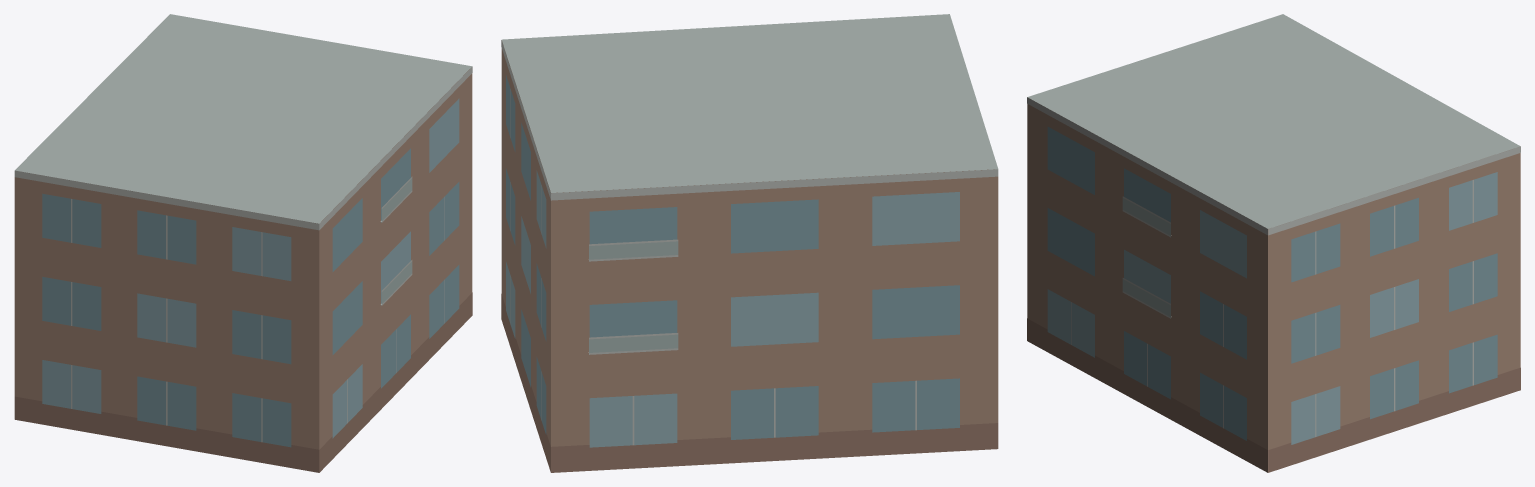
Rendered from survey-upis-32902891.glb.
The picture shows the model from 3 angles, left to right: view 1: azimuth 30°, elevation 25°; view 2: azimuth 150°, elevation 25°; view 3: azimuth 270°, elevation 25°; orthographic projection. The views are drawn at different scales.
Visible parts, largest first — view 1: survey-upis-32902891.tmp; view 2: survey-upis-32902891.tmp; view 3: survey-upis-32902891.tmp.
Boxes of the visible parts, x1,y1,x2,y2 form: survey-upis-32902891.tmp: (14,14,472,472); survey-upis-32902891.tmp: (501,14,998,472); survey-upis-32902891.tmp: (1027,14,1520,472).
Bounding box in the file's own units: 17.31 × 9.15 × 16.79.
